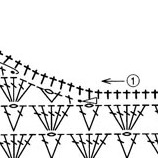enseble_chain: (42, 99, 80, 138), (120, 100, 156, 138), (26, 99, 57, 137), (7, 129, 43, 158), (4, 103, 34, 136), (83, 129, 117, 158), (103, 101, 131, 135), (62, 128, 92, 158), (70, 101, 96, 133), (118, 130, 147, 158), (81, 103, 107, 134), (7, 77, 34, 105), (44, 131, 72, 158), (99, 71, 129, 90), (0, 54, 24, 76)
fan: (35, 131, 57, 158), (1, 132, 20, 158), (82, 133, 97, 158)
